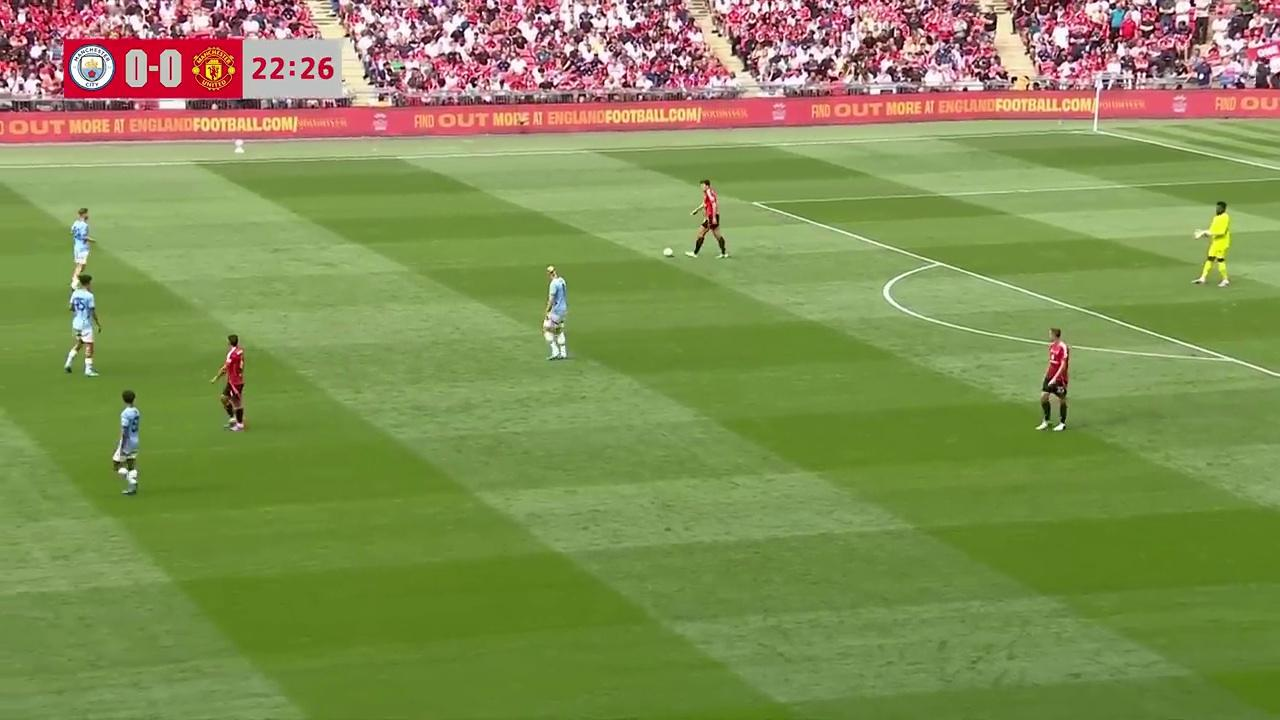ball: (662, 244, 674, 260)
player: (64, 274, 101, 377), (1036, 328, 1070, 432), (210, 334, 245, 431), (1193, 200, 1231, 287), (542, 267, 575, 361), (690, 179, 729, 258), (113, 390, 140, 494), (70, 207, 93, 283)
